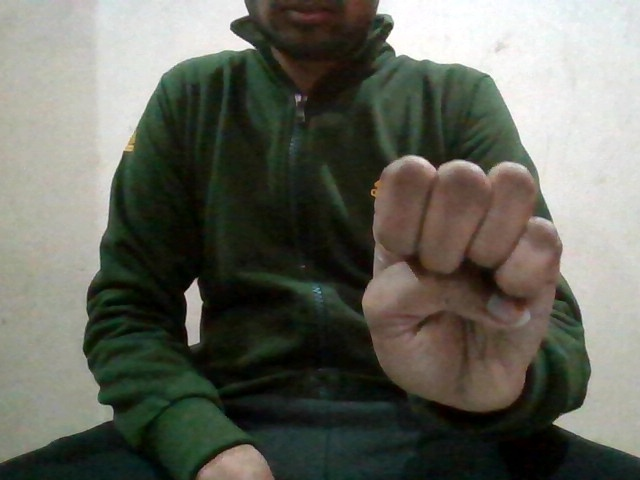E: (365, 152, 557, 409)
